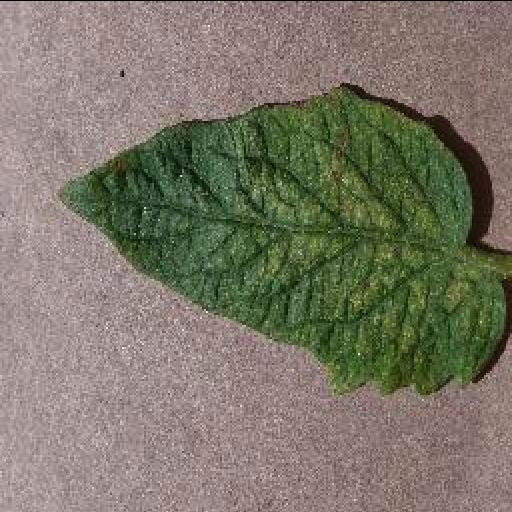disease_tomato: (56, 88, 512, 396)
